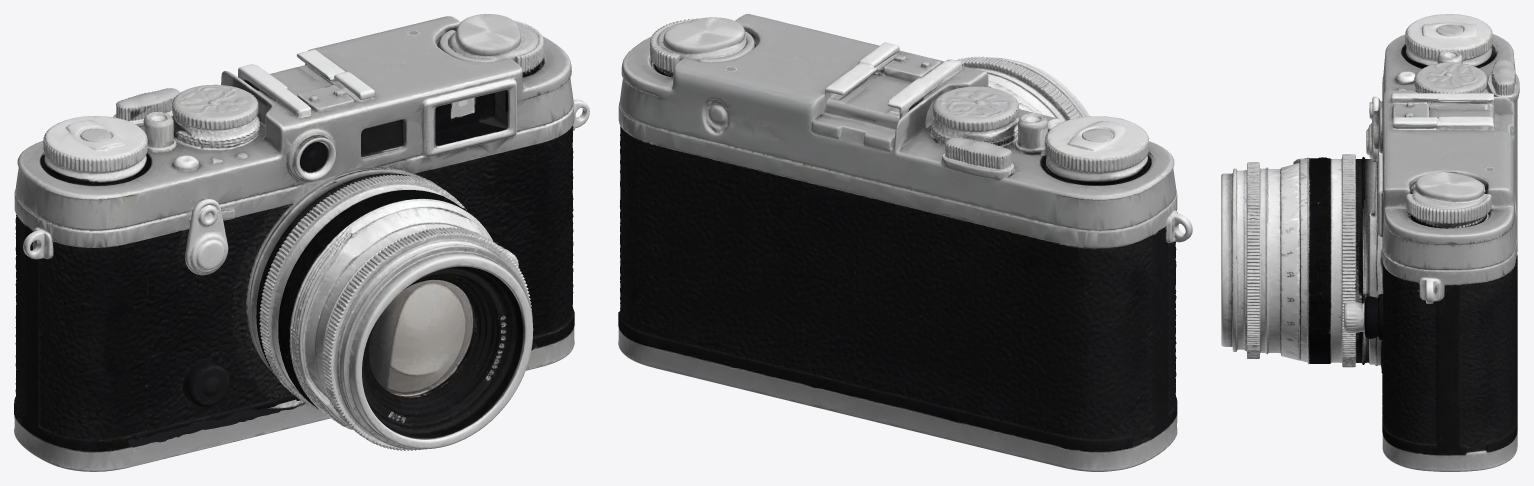
The model's file is ad-vintage-camera-compatible.glb.
3 views of the same model, side by side, from view 1: azimuth 30°, elevation 25°; view 2: azimuth 150°, elevation 25°; view 3: azimuth 270°, elevation 25° (orthographic). The views are drawn at different scales.
Bounding box in the file's own units: 1.9 × 1.01 × 1.04.
Materials: 1 (1 with a texture image).
